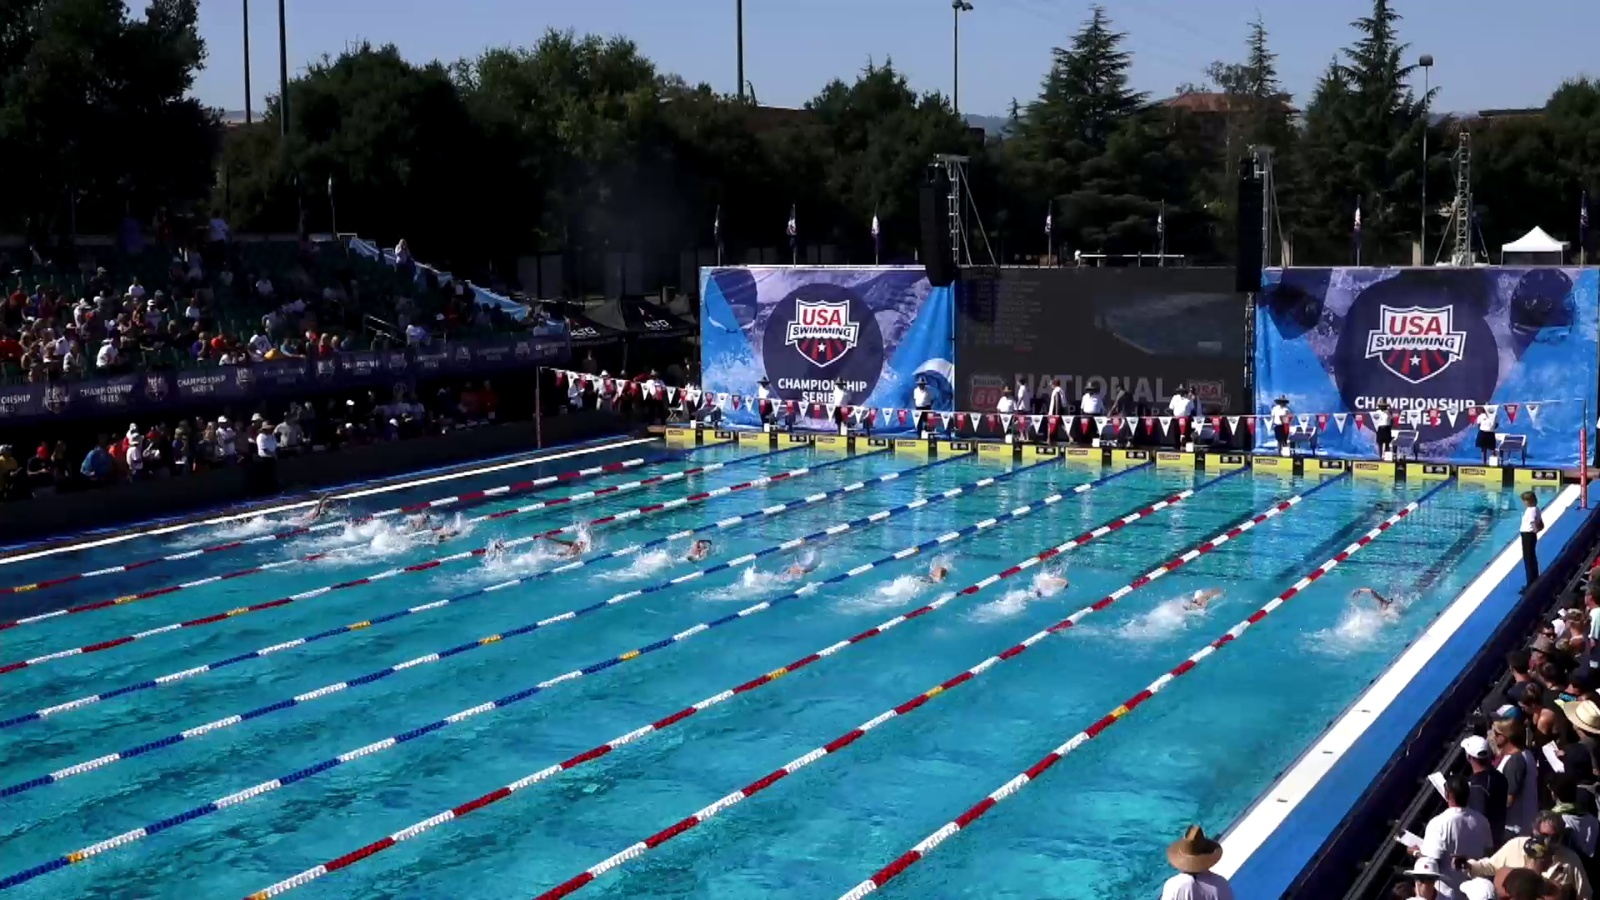swimmerw: (1151, 584, 1219, 627), (274, 489, 333, 529), (896, 562, 953, 599), (523, 534, 586, 568), (1013, 569, 1071, 604), (402, 525, 470, 552), (663, 536, 715, 562), (769, 556, 816, 584), (374, 515, 438, 535)
